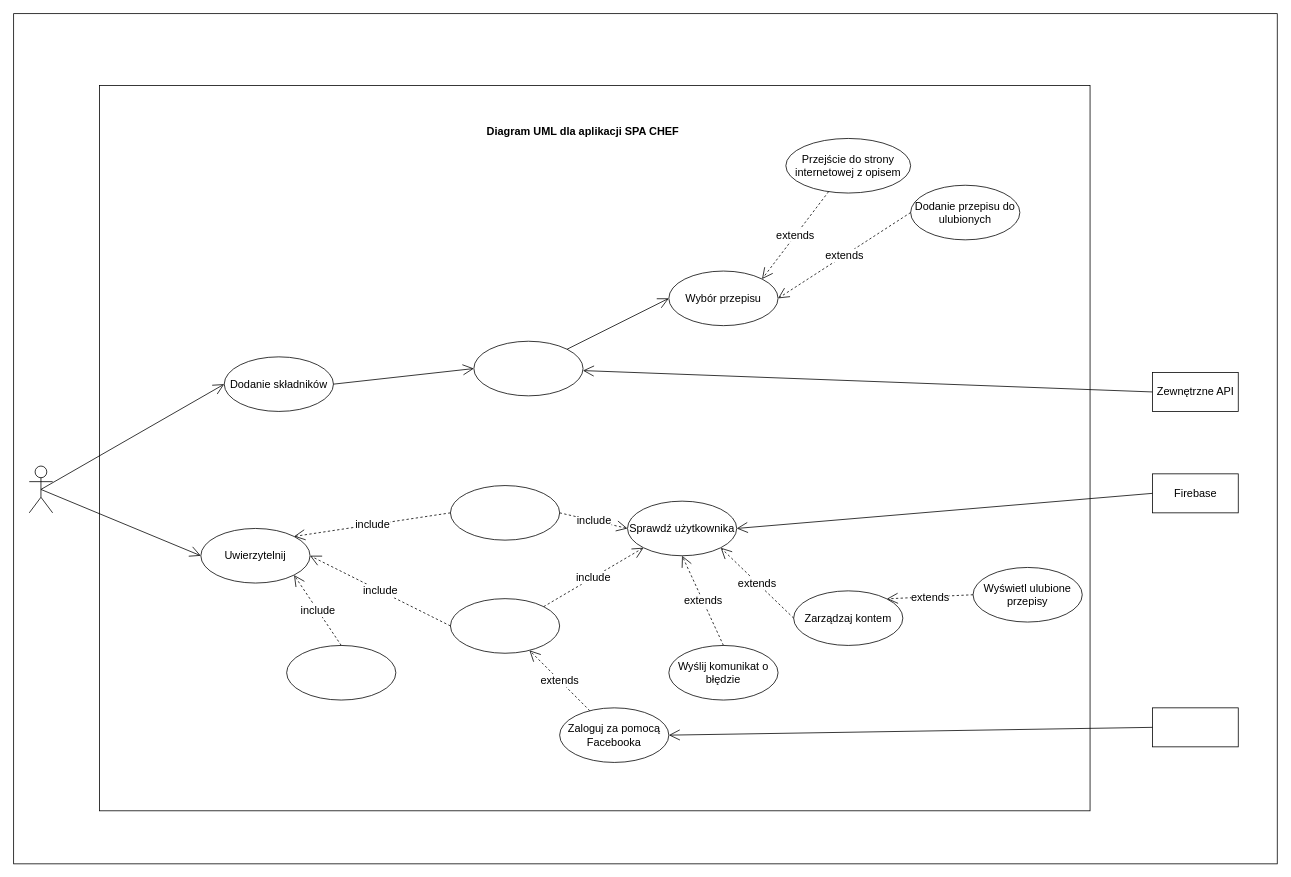
Image size: 1291x877. Some labels were removed from this diagram. The centre of each missing label's shape, as x and y in pixels:
Actor: (x=40, y=489)
Facebook API: (x=1195, y=727)
Wejdź bez logowania: (x=341, y=672)
Wyszukiwanie przepisów: (x=528, y=368)
Zaloguj się: (x=505, y=625)
Zarejestruj się: (x=505, y=512)
